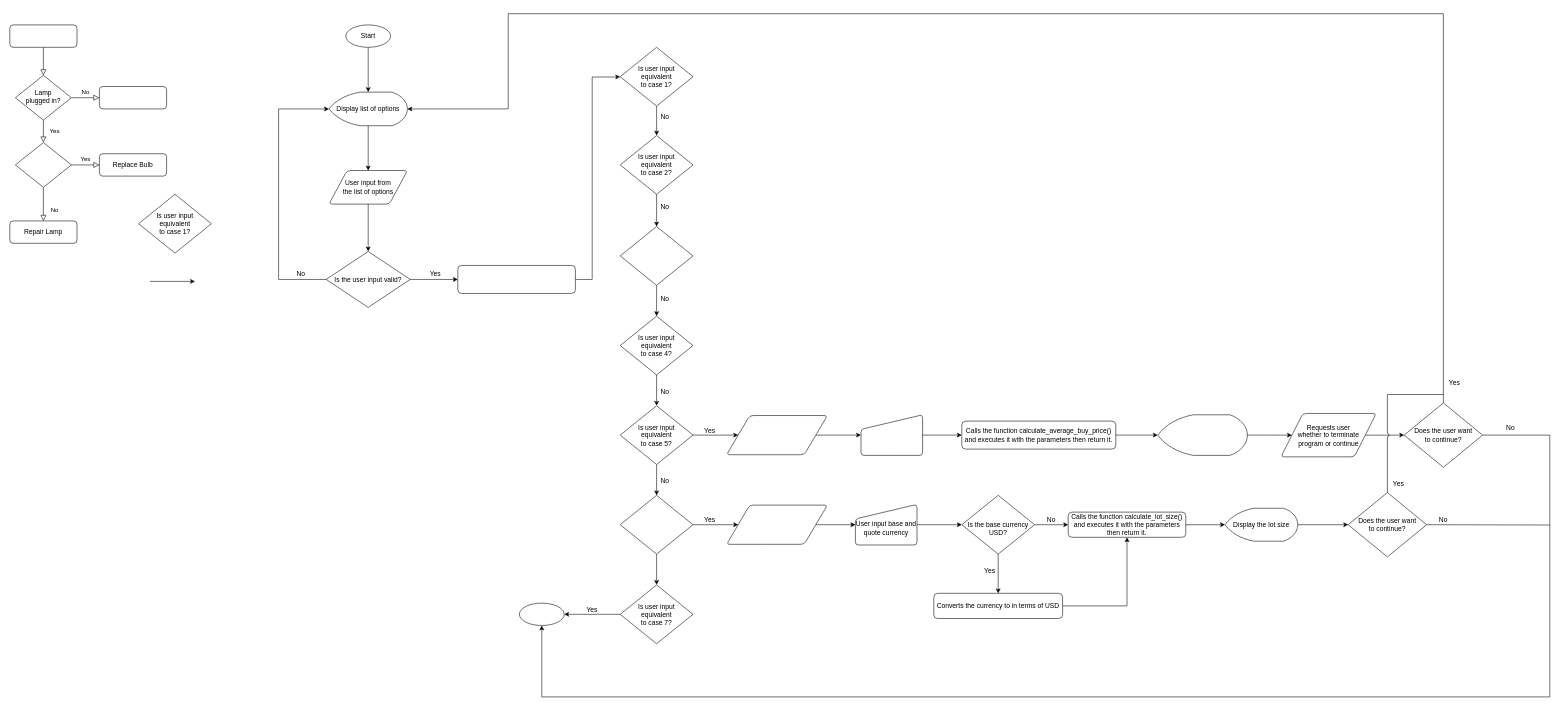
This 1564x711 diagram has some shape labels left out. The centre of each missing label's shape, as x and y in pixels:
"Bulb burned out?" goes at [43,164].
"Display the average buy price of the unit" goes at [1202,434].
"Is user input equivalent to case 3?" goes at [656,255].
"Is user input equivalent to case 6?" goes at [656,524].
"Lamp doesn't work" goes at [43,35].
"Plug in lamp" goes at [133,97].
"Requests user for base and quote currency" goes at [776,524].
"Requests user input for the total money spent and unit purchased" goes at [776,435].
"Stop" goes at [541,614].
"System picks specific functions based on the user input and execute it." goes at [516,279].
"User input sum of money spent and unit purchased" goes at [891,434].
